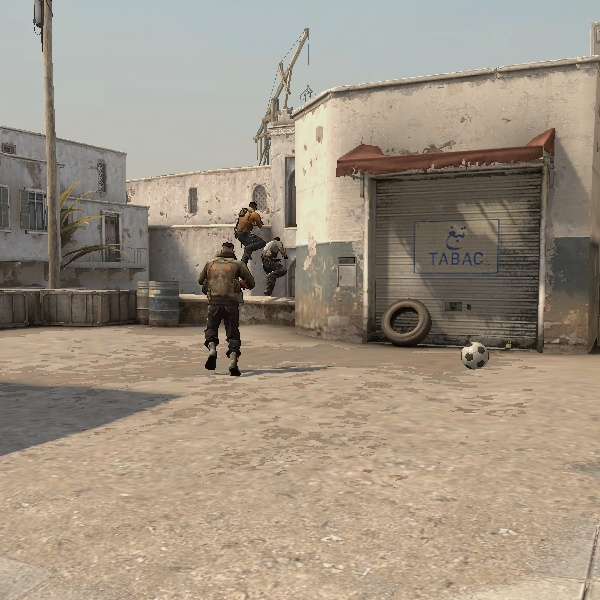t_body: (200, 242, 255, 376), (235, 201, 266, 263), (262, 236, 289, 295)
t_head: (222, 241, 235, 255), (249, 201, 258, 212), (273, 236, 280, 242)
